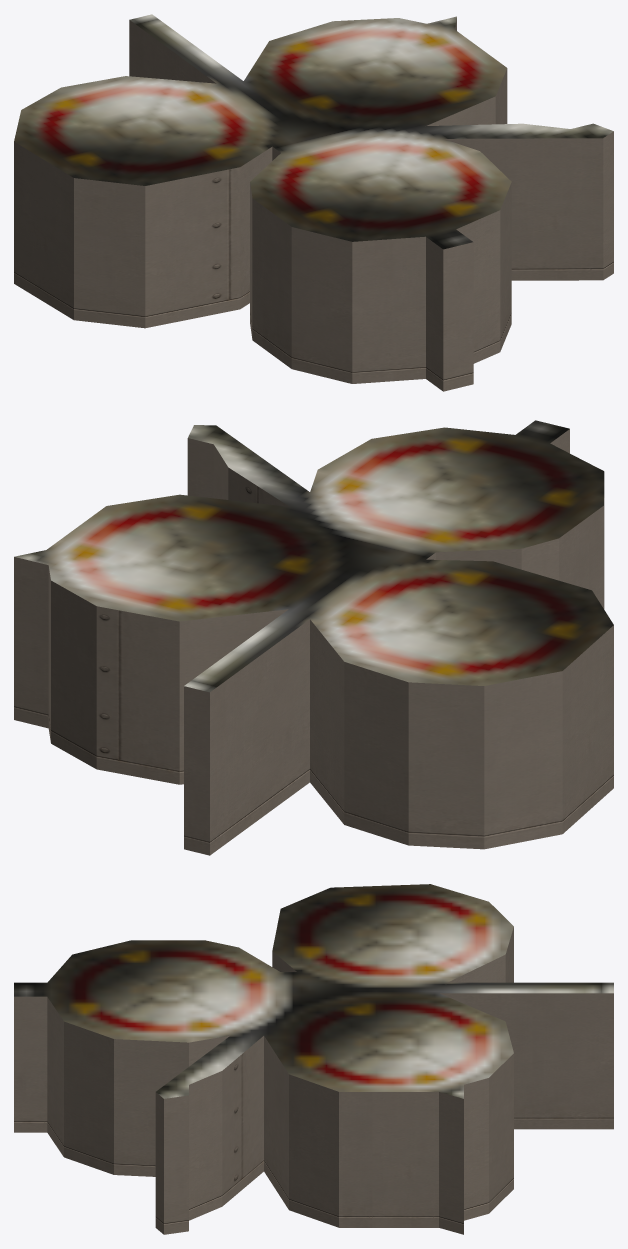
Rendered from fuel_tank_light_15.glb.
The picture shows the model from 3 angles, top to bottom: view 1: azimuth 30°, elevation 25°; view 2: azimuth 150°, elevation 25°; view 3: azimuth 270°, elevation 25°; orthographic projection. The views are drawn at different scales.
Parts seen in each view (by area): view 1: buildings/saxarba/fuel_tanks/fuel_tank_light_15; view 2: buildings/saxarba/fuel_tanks/fuel_tank_light_15; view 3: buildings/saxarba/fuel_tanks/fuel_tank_light_15.
Boxes of the visible parts, bbox=[...] form: buildings/saxarba/fuel_tanks/fuel_tank_light_15: bbox=[14, 14, 613, 391]; buildings/saxarba/fuel_tanks/fuel_tank_light_15: bbox=[14, 420, 613, 855]; buildings/saxarba/fuel_tanks/fuel_tank_light_15: bbox=[14, 884, 613, 1234].
Bounding box in the file's own units: 61 × 18 × 72.
